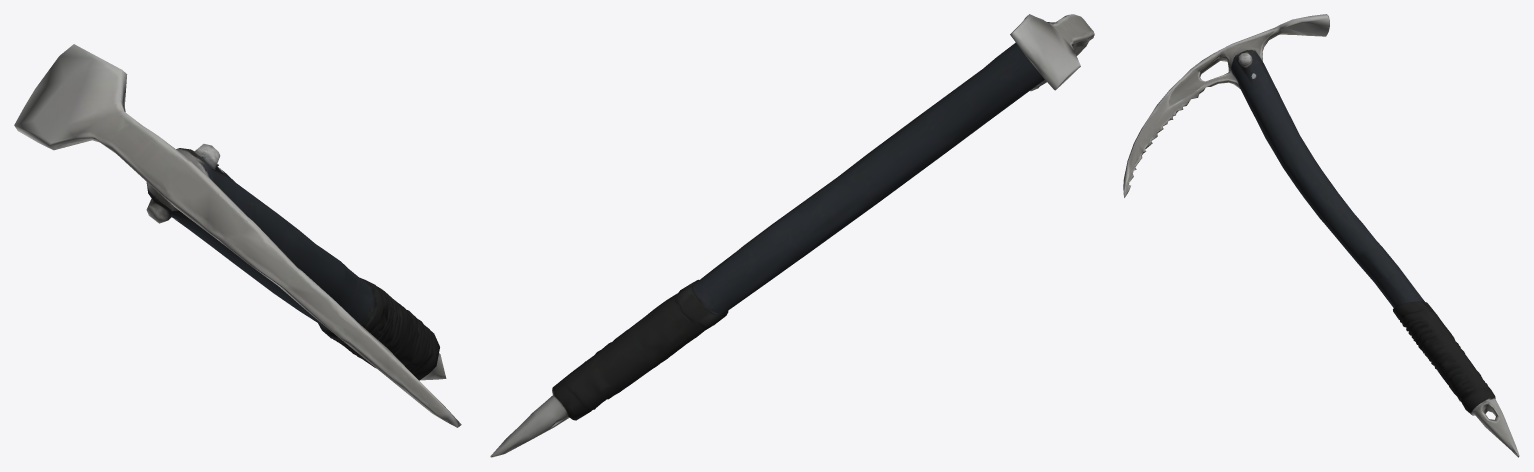
File: prop_ice_axe.glb
3 renders of one model, left to right at view 1: azimuth 30°, elevation 25°; view 2: azimuth 150°, elevation 25°; view 3: azimuth 270°, elevation 25°, orthographic. The views are drawn at different scales.
Visible parts, largest first — view 1: tripo_node_04c60665-90c7-4120-8289-05049ead81e0; view 2: tripo_node_04c60665-90c7-4120-8289-05049ead81e0; view 3: tripo_node_04c60665-90c7-4120-8289-05049ead81e0.
Boxes of the visible parts, x1=… form: tripo_node_04c60665-90c7-4120-8289-05049ead81e0: x1=14, y1=44, x2=461, y2=427; tripo_node_04c60665-90c7-4120-8289-05049ead81e0: x1=490, y1=14, x2=1094, y2=457; tripo_node_04c60665-90c7-4120-8289-05049ead81e0: x1=1123, y1=14, x2=1519, y2=457.
Bounding box in the file's own units: 0.9106 × 0.8528 × 1.
Materials: 1 (1 with a texture image).
